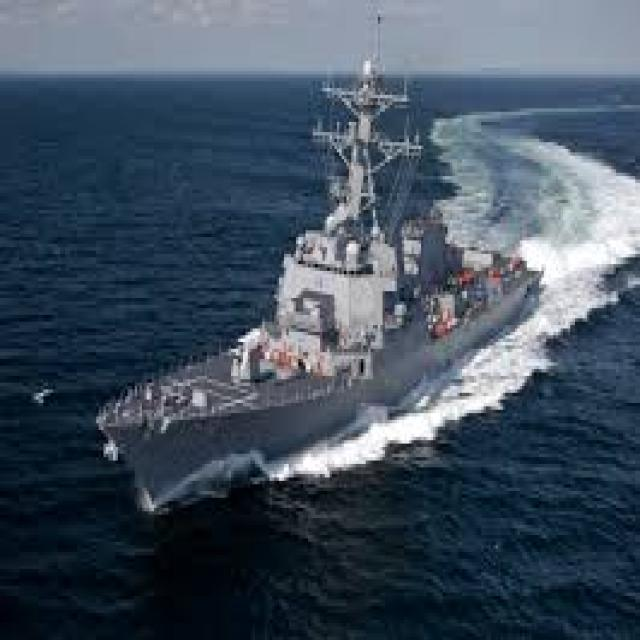navalvessels: (106, 16, 557, 532)
